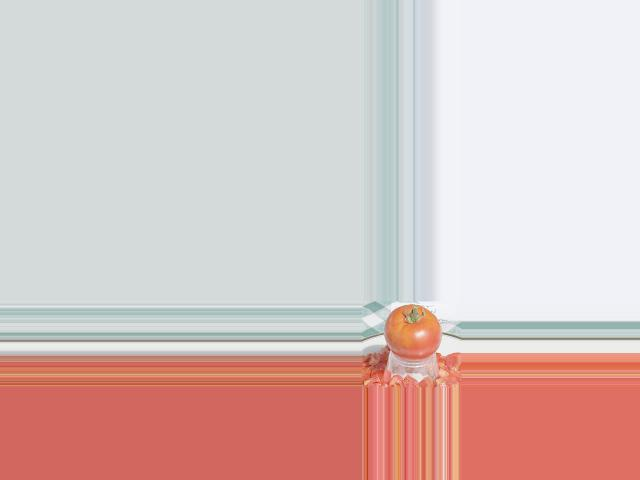tomato: (384, 304, 443, 360)
